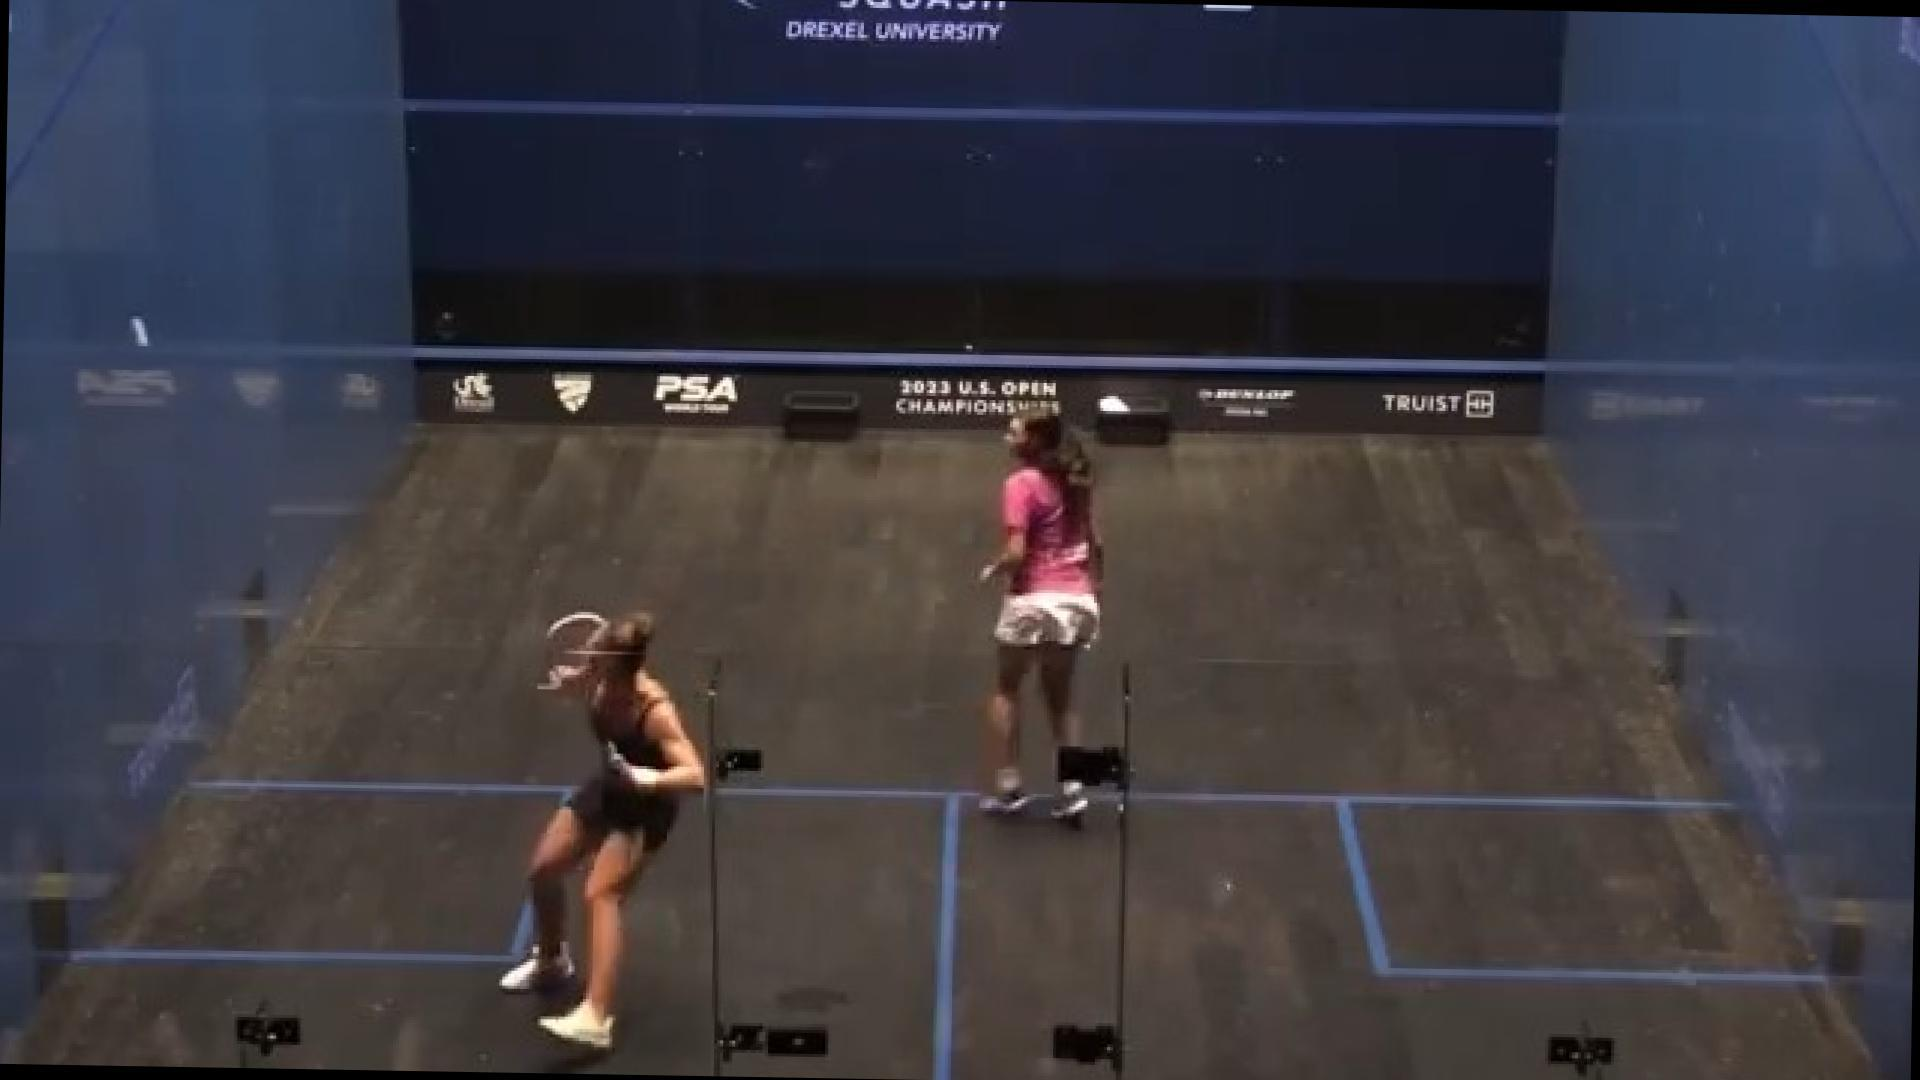Squash-Ball: (104, 290, 174, 375)
